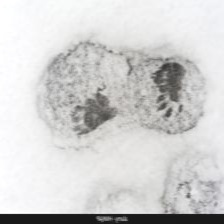raccoon: (70, 95, 121, 138)
